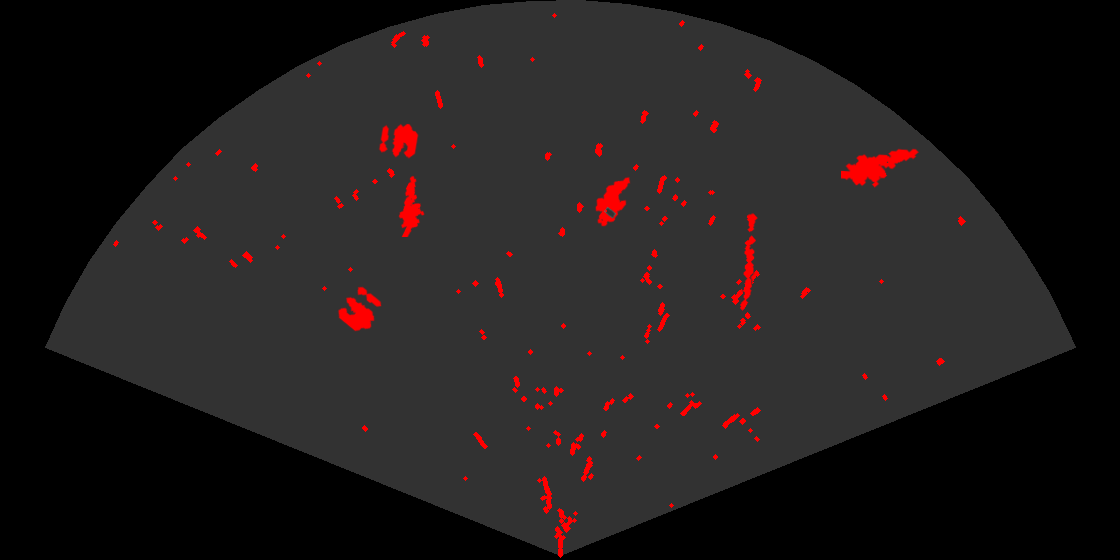AUV: (594, 175, 632, 228)
ball: (336, 285, 383, 333), (377, 122, 420, 160)
chain: (739, 211, 759, 312)
frogman: (841, 147, 919, 189), (397, 174, 426, 237)
